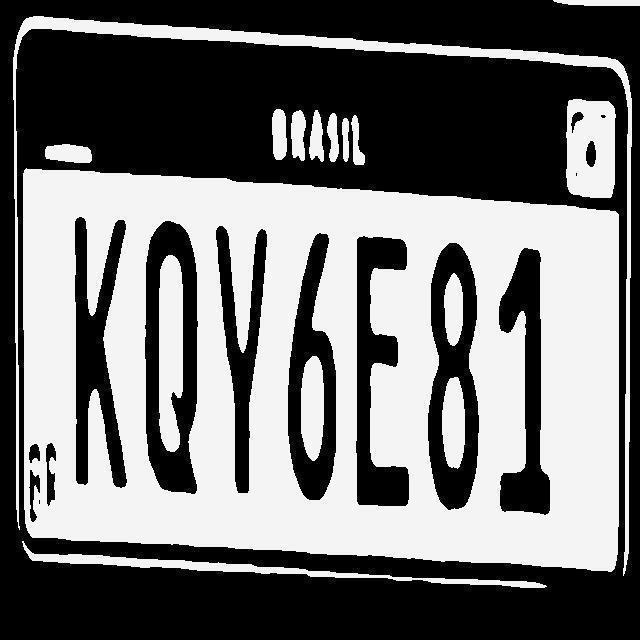1: (489, 237, 562, 520)
6: (280, 223, 345, 510)
8: (424, 240, 488, 512)
e: (347, 232, 413, 511)
k: (64, 208, 130, 496)
q: (135, 217, 206, 504)
y: (213, 212, 272, 500)
